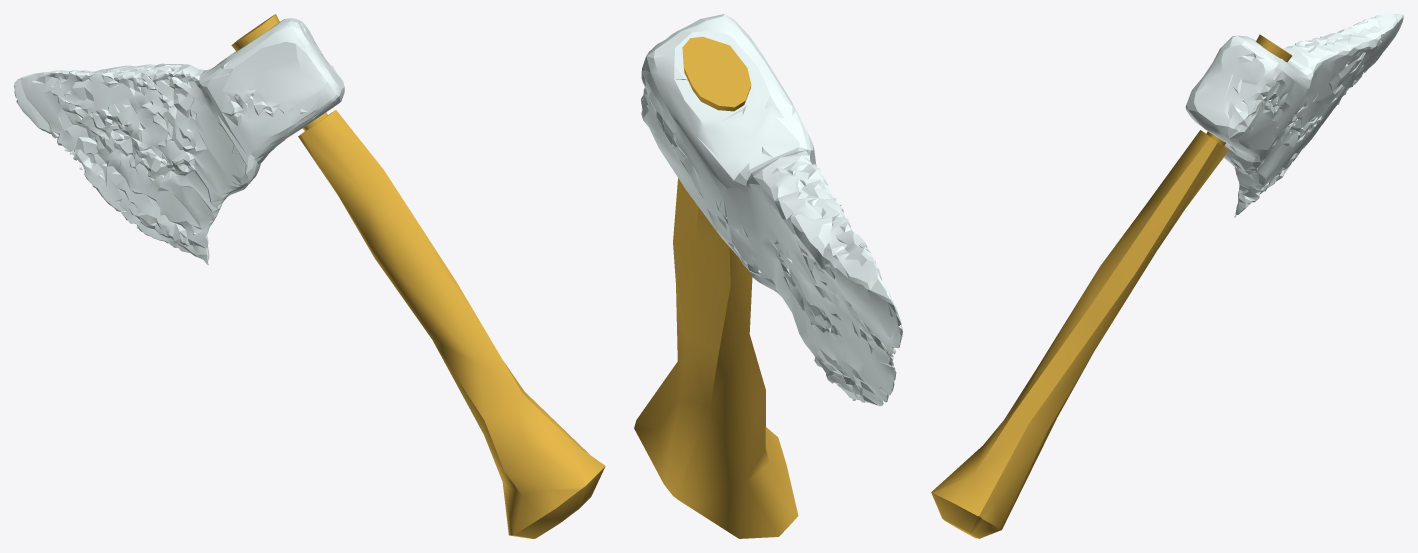
Rendered from axe-iron-42.glb.
3 views of the same model, side by side, from view 1: azimuth 30°, elevation 25°; view 2: azimuth 150°, elevation 25°; view 3: azimuth 270°, elevation 25° (orthographic). The views are drawn at different scales.
Visible parts, largest first — view 1: iron-axe-head, iron-axe; view 2: iron-axe-head, iron-axe; view 3: iron-axe, iron-axe-head.
Boxes of the visible parts, x1,y1,x2,y2 form: iron-axe-head: [14, 18, 344, 265]; iron-axe: [231, 14, 605, 538]; iron-axe-head: [641, 14, 902, 406]; iron-axe: [634, 36, 798, 538]; iron-axe: [931, 34, 1291, 538]; iron-axe-head: [1185, 14, 1403, 217].
Bounding box in the file's own units: 0.7607 × 0.865 × 0.8311.
